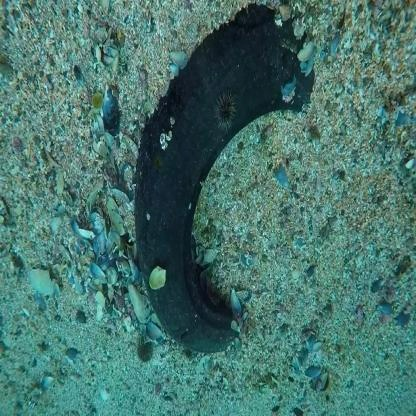tire: (118, 46, 308, 385)
